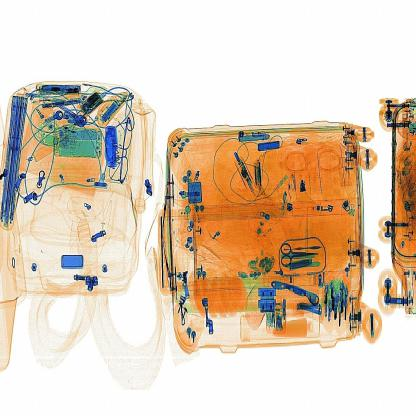scissors: (101, 116, 126, 174)
